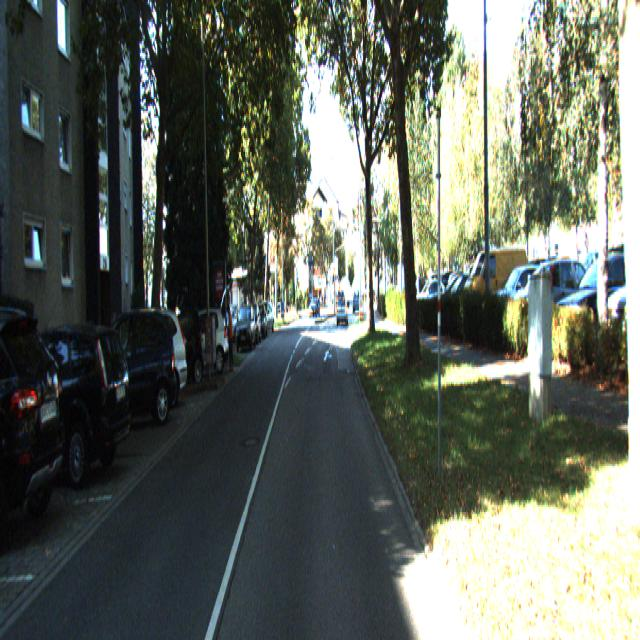Car: (0, 315, 132, 497), (0, 296, 64, 545), (76, 308, 176, 443), (100, 306, 188, 431), (175, 306, 230, 377), (161, 306, 203, 382), (235, 304, 256, 356)
